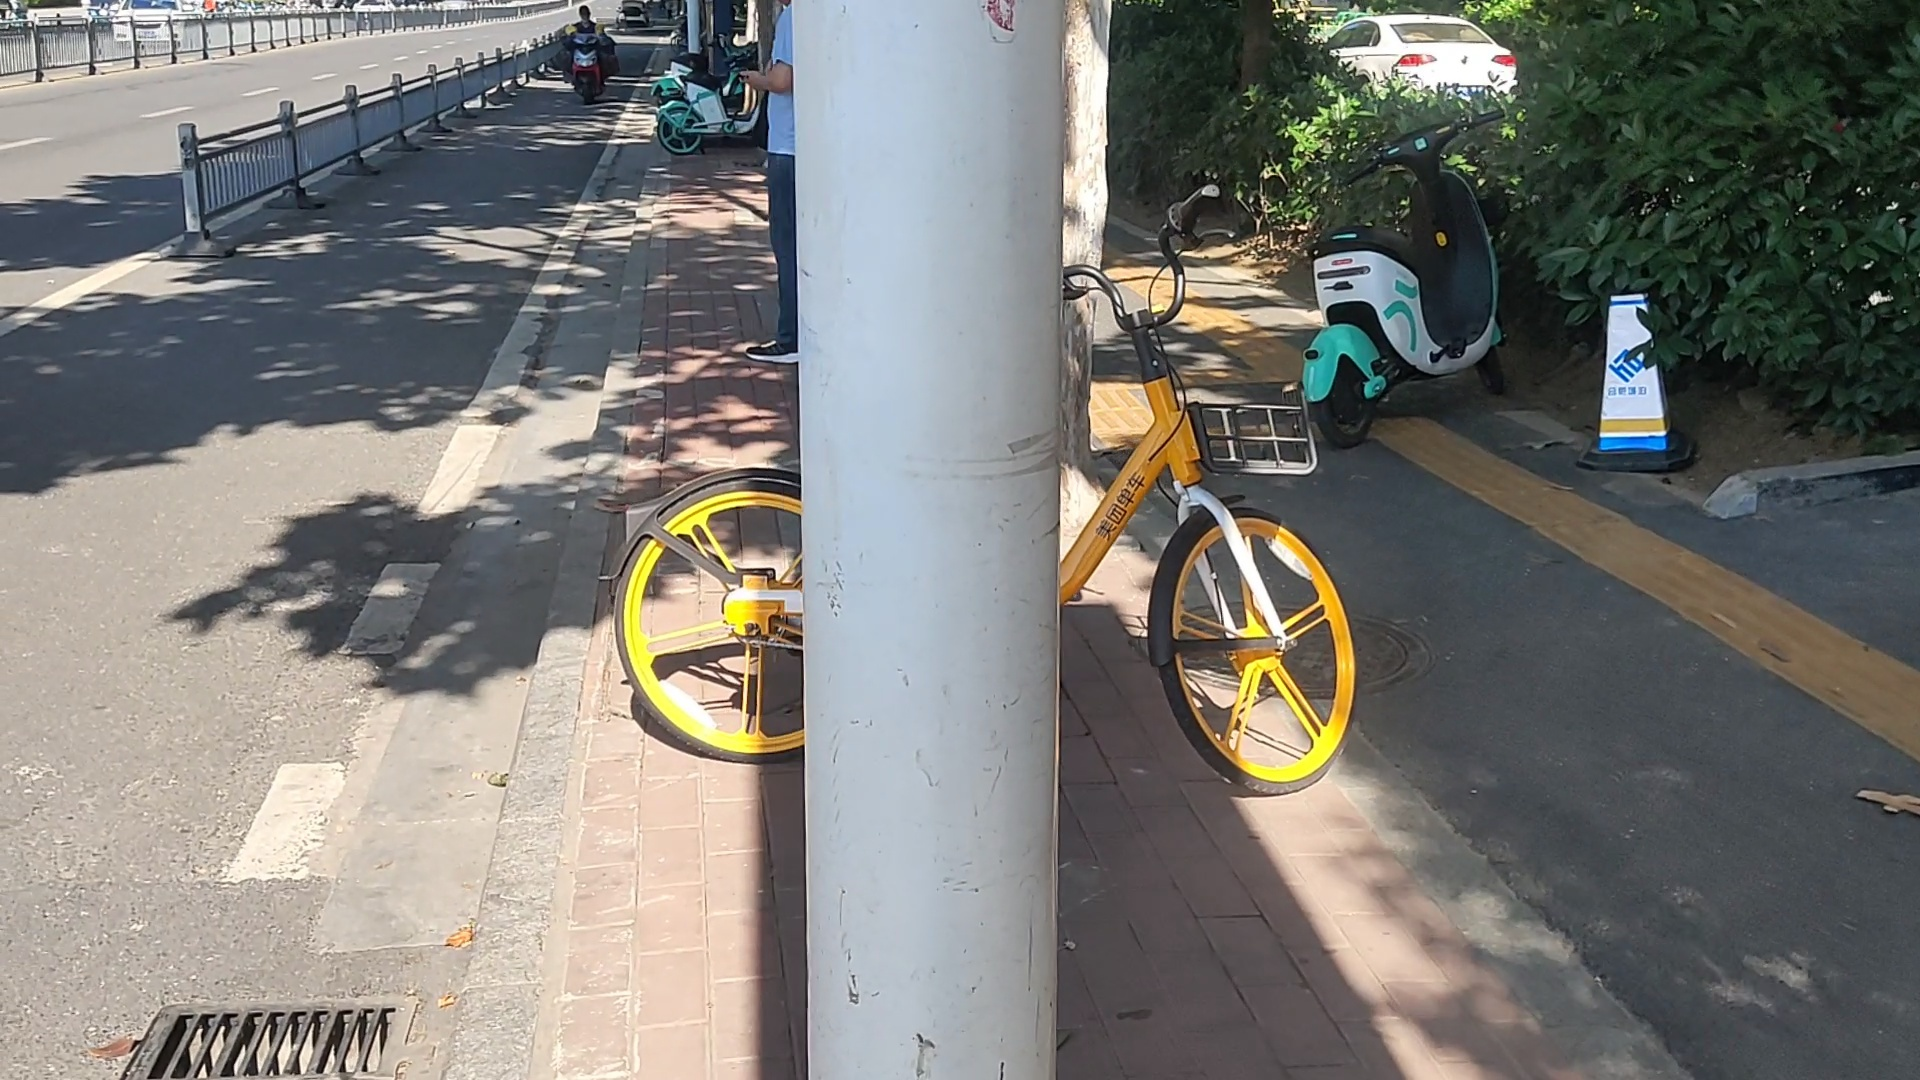non-vehicle: (592, 169, 1370, 811), (1282, 100, 1538, 454), (649, 50, 754, 156), (564, 26, 611, 103)
